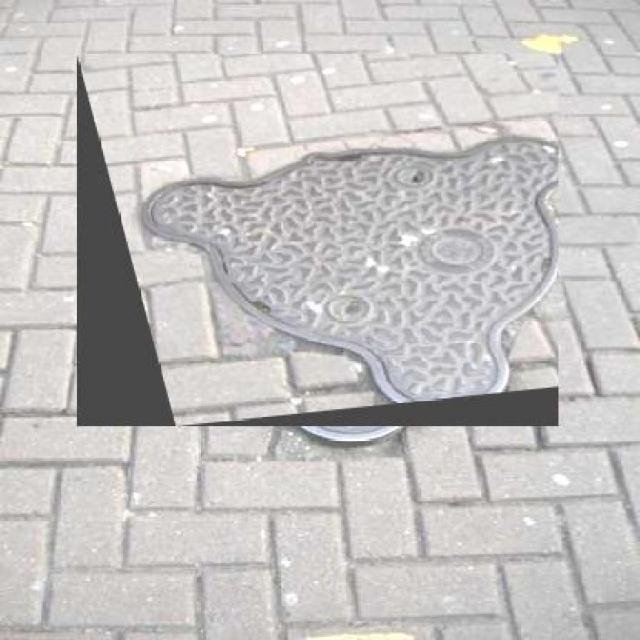Manhole: (76, 54, 558, 426)
